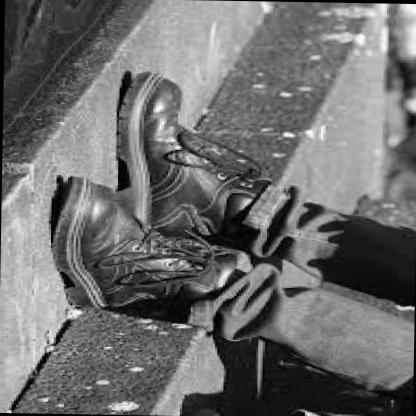ankle: (164, 307, 176, 311), (237, 211, 242, 215)
heel: (103, 307, 117, 311), (205, 231, 209, 235)
left_foot: (119, 72, 260, 238)
pinky: (88, 245, 98, 253), (176, 93, 180, 95)
right_foot: (58, 177, 204, 326)
toe: (102, 192, 110, 198), (151, 106, 155, 110)
